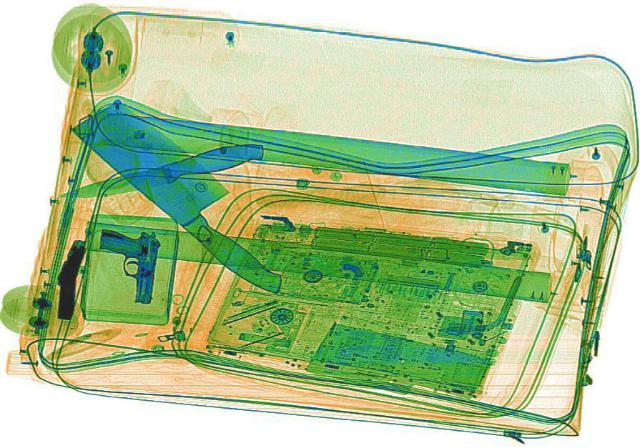Gun: (89, 225, 161, 302), (46, 237, 90, 319)
Knife: (55, 98, 329, 297), (53, 137, 270, 204)
